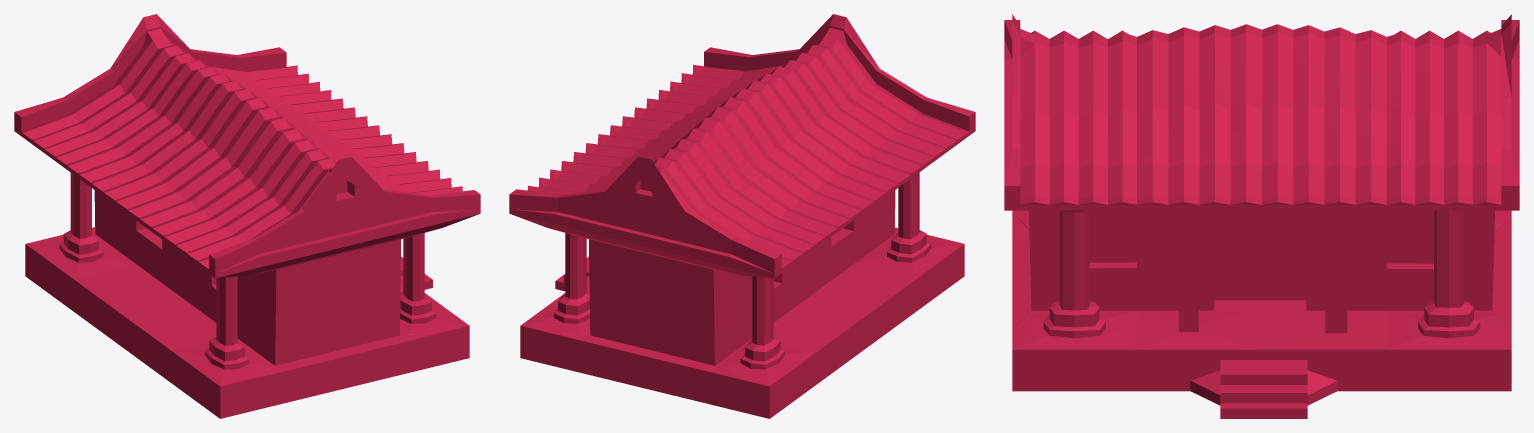
File: siheyuan.dae
3 renders of one model, left to right at view 1: azimuth 30°, elevation 25°; view 2: azimuth 150°, elevation 25°; view 3: azimuth 270°, elevation 25°, orthographic. The views are drawn at different scales.
Parts seen in each view (by area): view 1: Cube; view 2: Cube; view 3: Cube.
Boxes of the visible parts, <box> form: Cube: <box>14,14,480,418</box>; Cube: <box>509,14,975,418</box>; Cube: <box>1004,14,1519,418</box>.
Size of the model in its own units: 9.91 by 11.26 by 7.11.
